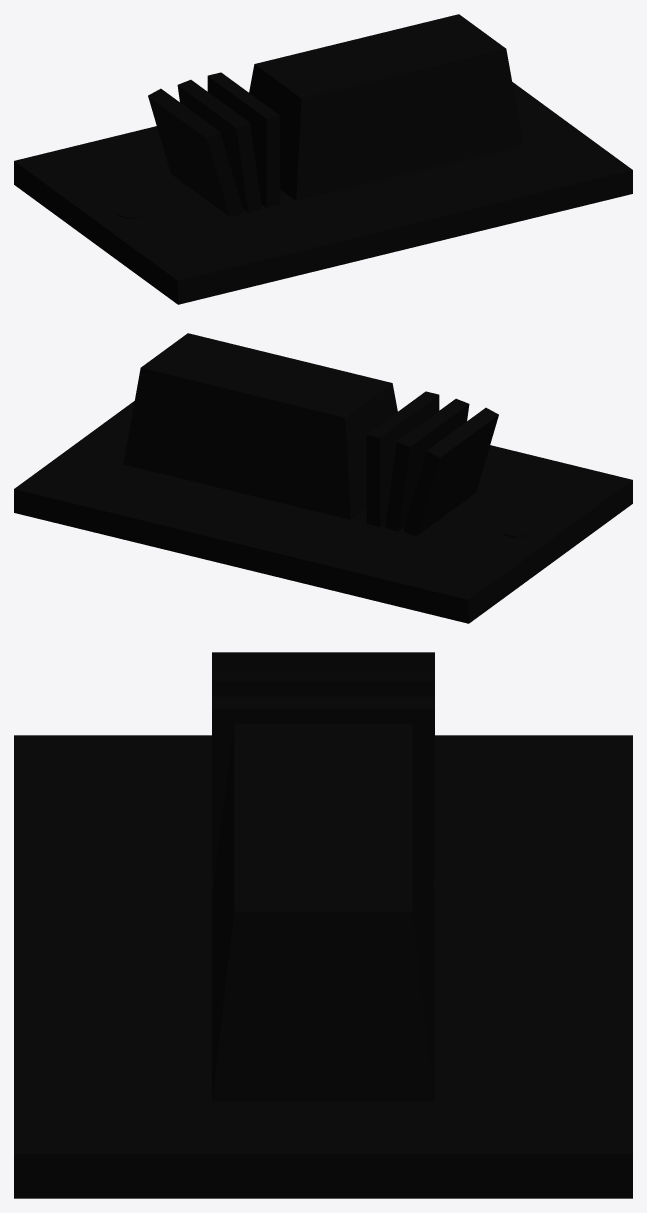
The model's file is SM_cutting_board_bread.fbx.
3 views of the same model, one above another, from view 1: azimuth 30°, elevation 25°; view 2: azimuth 150°, elevation 25°; view 3: azimuth 270°, elevation 25° (orthographic). The views are drawn at different scales.
Parts seen in each view (by area): view 1: cutting_board_bread; view 2: cutting_board_bread; view 3: cutting_board_bread.
Boxes of the visible parts, bbox=[...] form: cutting_board_bread: bbox=[14, 14, 632, 304]; cutting_board_bread: bbox=[14, 333, 632, 623]; cutting_board_bread: bbox=[14, 652, 632, 1198].
Size of the model in its own units: 0.4 by 0.1 by 0.25.
